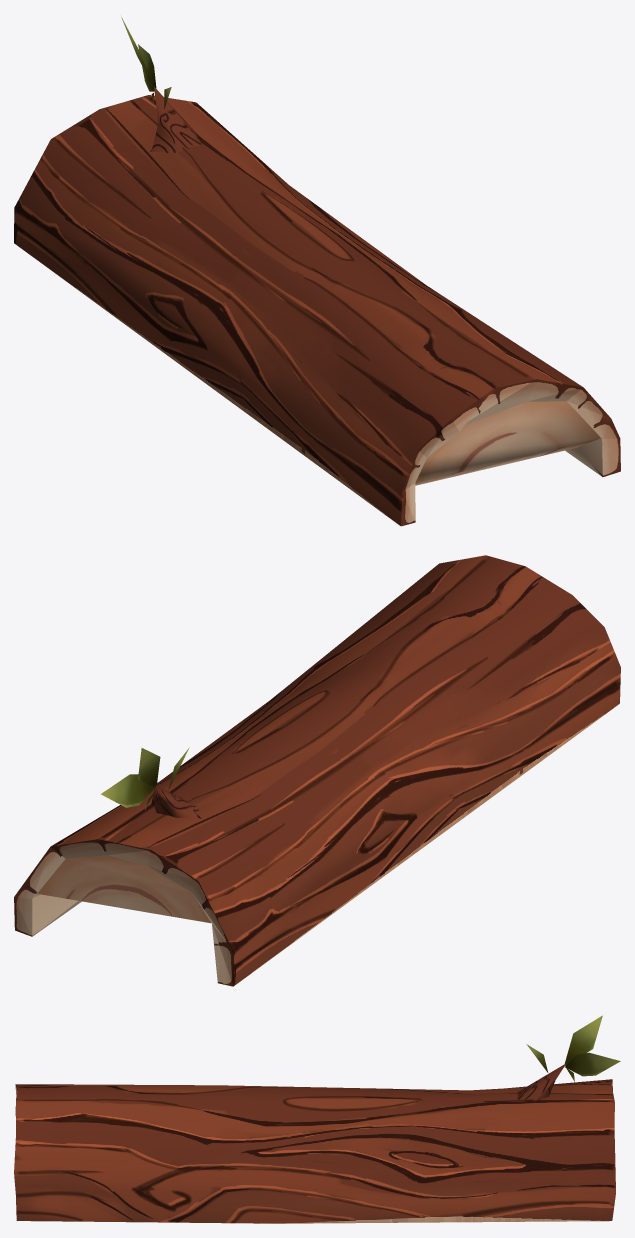
Rendered from log2_LOD1.fbx.
The picture shows the model from 3 angles, top to bottom: view 1: azimuth 30°, elevation 25°; view 2: azimuth 150°, elevation 25°; view 3: azimuth 270°, elevation 25°; orthographic projection. The views are drawn at different scales.
Visible parts, largest first — view 1: SM_Buche; view 2: SM_Buche; view 3: SM_Buche.
Boxes of the visible parts, box(x1,y1,x2,y2) form: SM_Buche: box(14, 17, 620, 526); SM_Buche: box(14, 555, 620, 986); SM_Buche: box(14, 1015, 620, 1223).
Size of the model in its own units: 21.75 by 20.12 by 67.46.
1 material, 1 textured.
